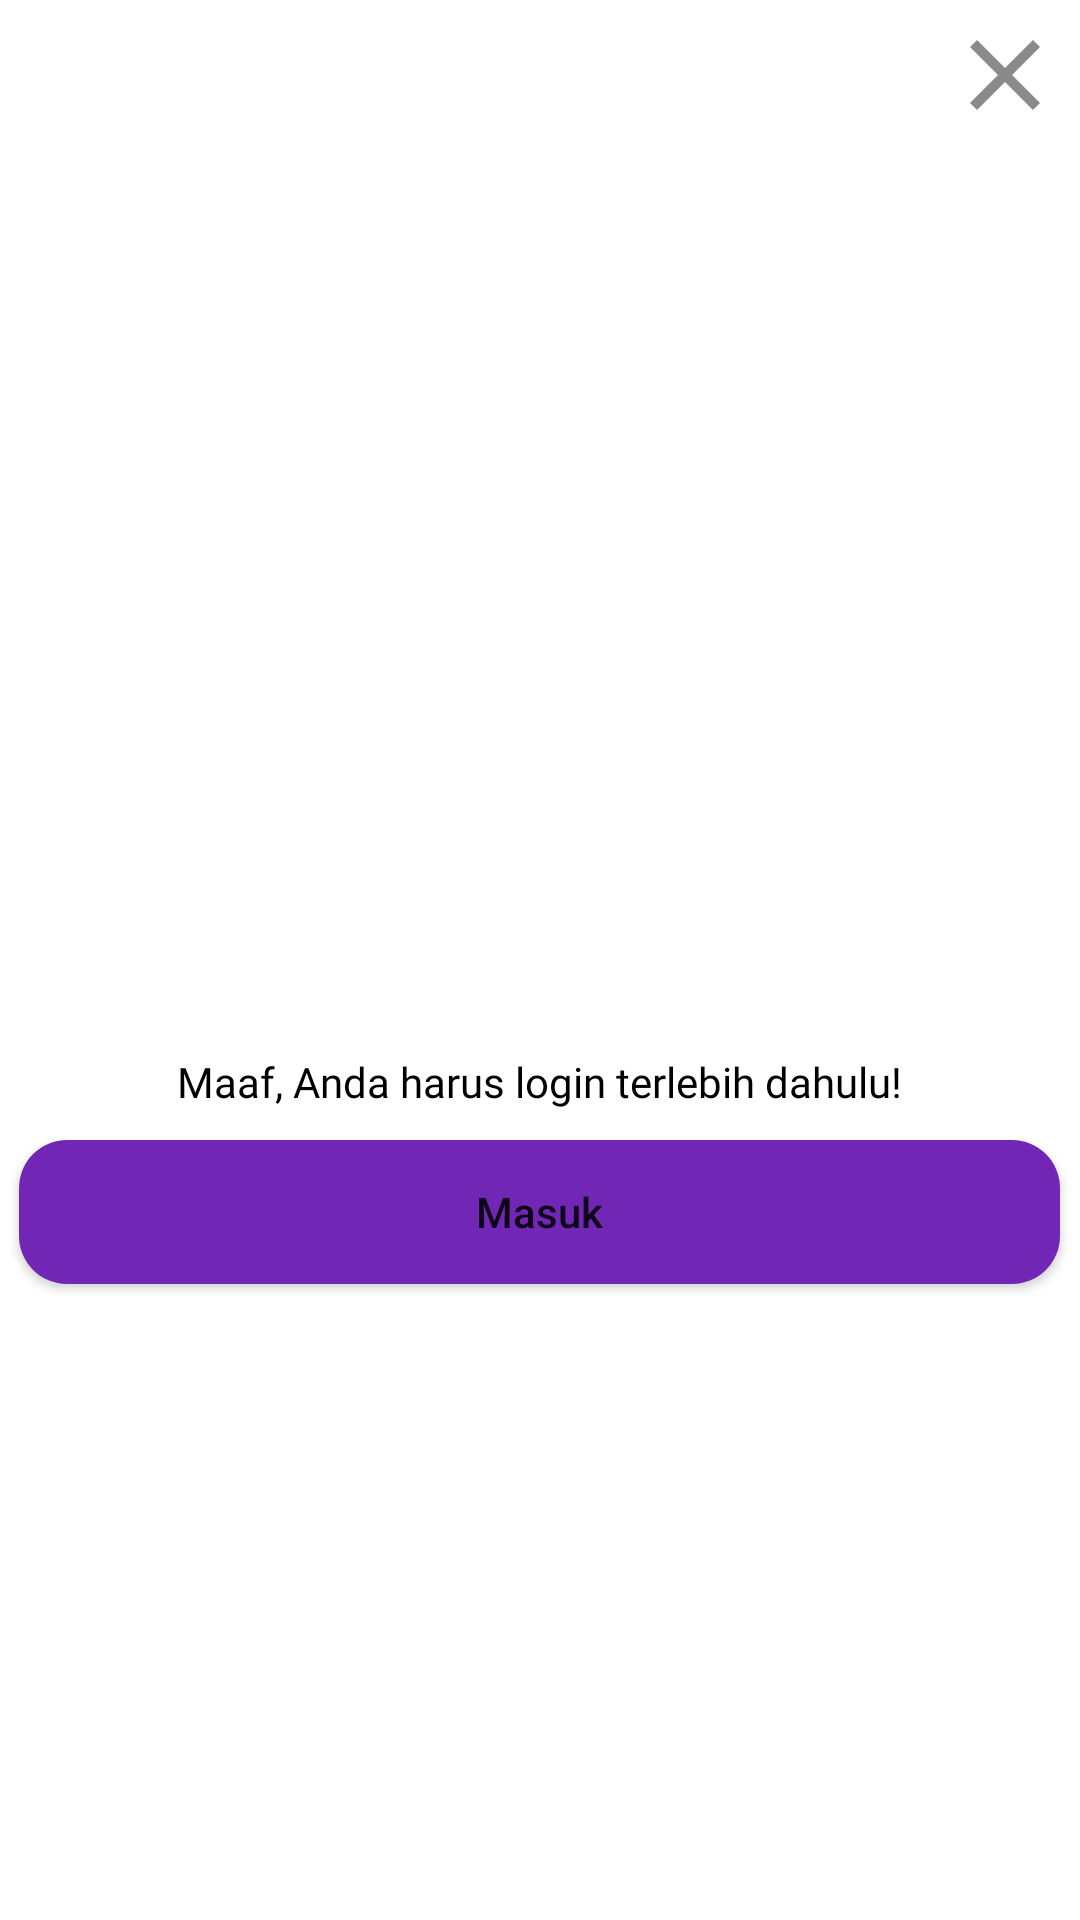

Icon click points for this 1080w x 1920h phone screenshot, format (x,y):
close: (1005,75)
